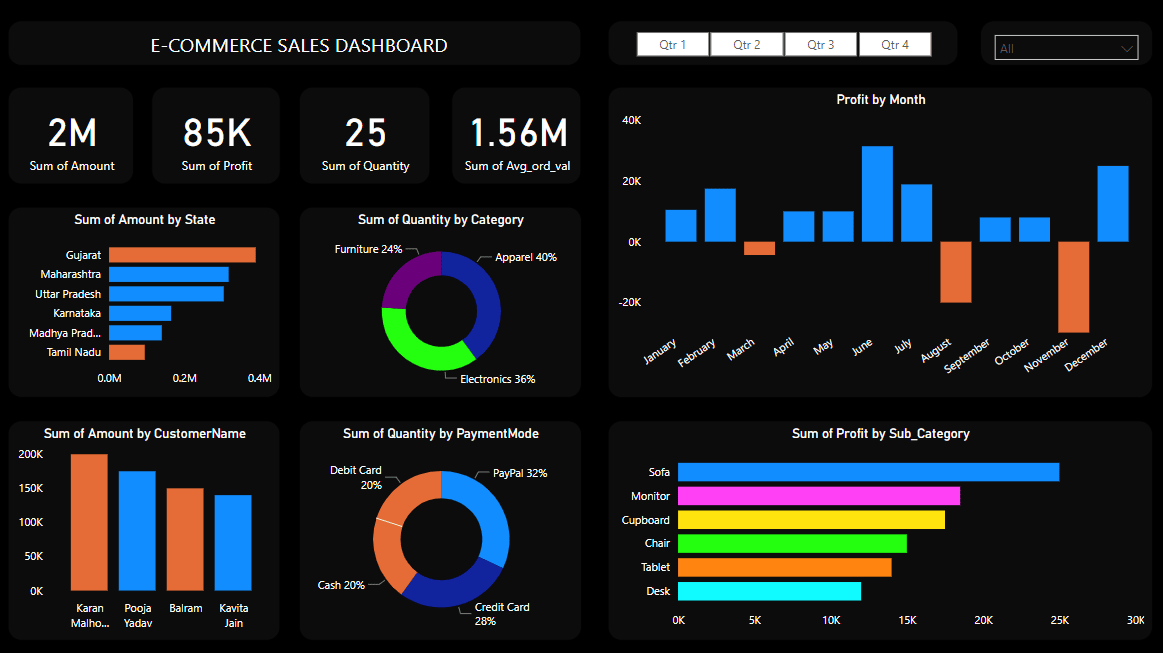

The dashboard page shown, as its layout file describes it:
{"tool":"powerbi","page":{"name":"Page 1","canvas":[1280,720],"ordinal":0},"visuals":[{"type":"columnChart","title":" Profit by Month","fields":{"Y":["Sheet1.Profit"],"Category":["Sheet2.Order Date.Variation.Date Hierarchy.Month"]},"box":[668.3,97.4,598.3,341.7],"z":0},{"type":"barChart","fields":{"Category":["Sheet1.Sub_Category"],"Y":["Sheet1.Profit"]},"box":[668.3,463.8,598.3,241.5],"z":1000},{"type":"donutChart","fields":{"Category":["Sheet1.Category"],"Y":["Sheet1.Quantity"]},"box":[329.3,229.2,310.1,209.9],"z":2000},{"type":"donutChart","fields":{"Y":["Sheet1.Quantity"],"Category":["Sheet1.PaymentMode"]},"box":[329.3,463.8,310.1,241.5],"z":3000},{"type":"card","fields":{"Values":["Sheet1.Amount"]},"box":[9.6,97.4,138.6,107],"z":4000},{"type":"card","fields":{"Values":["Sheet1.Profit"]},"box":[167.4,97.4,141.3,107],"z":5000},{"type":"card","fields":{"Values":["Sheet1.Quantity"]},"box":[329.3,97.4,144.1,107],"z":6000},{"type":"card","fields":{"Values":["Sheet1.Avg_ord_val"]},"box":[496.7,97.4,142.7,107],"z":7000},{"type":"barChart","fields":{"Category":["Sheet2.State"],"Y":["Sheet1.Amount"]},"box":[9.6,229.2,299.1,209.9],"z":8000},{"type":"columnChart","fields":{"Category":["Sheet2.CustomerName"],"Y":["Sheet1.Amount"]},"box":[9.6,463.8,299.1,241.5],"z":9000},{"type":"textbox","box":[9.6,24.7,629.8,49.4],"z":10000},{"type":"slicer","fields":{"Values":["Sheet2.Order Date.Variation.Date Hierarchy.Quarter"]},"box":[668.4,24.1,384.9,49.5],"z":11000},{"type":"slicer","fields":{"Values":["Sheet2.State"]},"box":[1077.2,24.7,189.4,49.4],"z":11001}]}

Visuals, with their boxes in screenshot pixels (x1, y1, x2, y2), scaled from the page's 1280x720 canvas onto the 1163x653 screenshot:
" Profit by Month" columnChart: x1=607, y1=88, x2=1151, y2=398
barChart - Sheet1.Sub_Category x Sheet1.Profit: x1=607, y1=421, x2=1151, y2=640
donutChart - Sheet1.Category x Sheet1.Quantity: x1=299, y1=208, x2=581, y2=398
donutChart - Sheet1.Quantity x Sheet1.PaymentMode: x1=299, y1=421, x2=581, y2=640
card - Sheet1.Amount: x1=9, y1=88, x2=135, y2=185
card - Sheet1.Profit: x1=152, y1=88, x2=280, y2=185
card - Sheet1.Quantity: x1=299, y1=88, x2=430, y2=185
card - Sheet1.Avg_ord_val: x1=451, y1=88, x2=581, y2=185
barChart - Sheet2.State x Sheet1.Amount: x1=9, y1=208, x2=280, y2=398
columnChart - Sheet2.CustomerName x Sheet1.Amount: x1=9, y1=421, x2=280, y2=640
textbox: x1=9, y1=22, x2=581, y2=67
slicer - Sheet2.Order Date.Variation.Date Hierarchy.Quarter: x1=607, y1=22, x2=957, y2=67
slicer - Sheet2.State: x1=979, y1=22, x2=1151, y2=67
